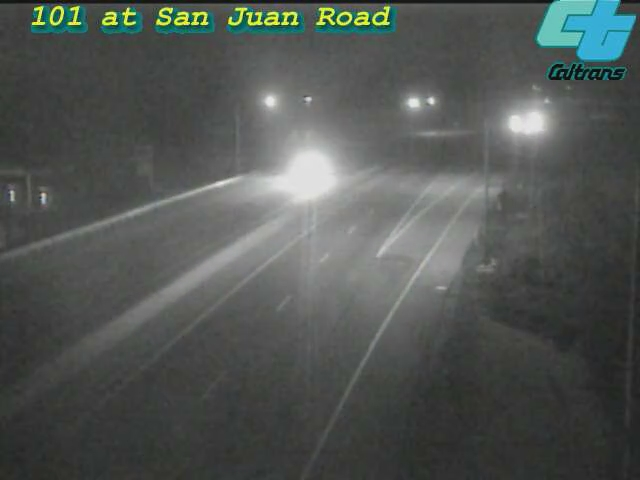vehicle: (265, 130, 345, 210), (501, 106, 551, 156), (490, 98, 540, 148), (509, 96, 559, 146)
